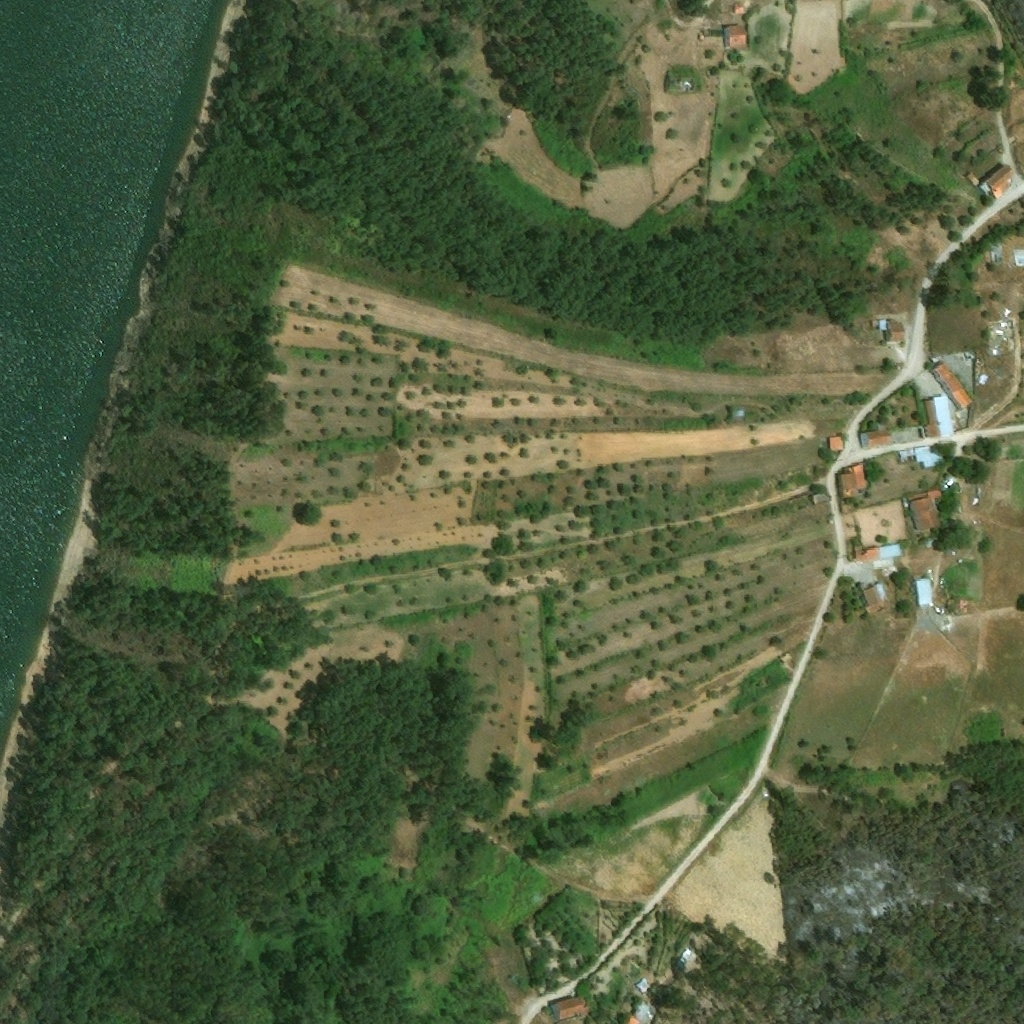0 no-damage: (933, 360, 975, 410), (908, 487, 945, 531), (833, 460, 869, 501), (922, 396, 954, 439), (857, 543, 904, 569), (982, 164, 1015, 201), (551, 997, 589, 1021), (861, 581, 890, 608), (627, 998, 657, 1023), (675, 945, 701, 972), (858, 429, 893, 449), (879, 318, 908, 342), (913, 446, 945, 467), (915, 578, 932, 608), (724, 25, 747, 47), (810, 490, 830, 506), (829, 436, 844, 450), (779, 652, 792, 664), (967, 173, 979, 185), (735, 3, 747, 14), (732, 409, 746, 418)
2 major-damage: (989, 245, 1003, 262)
3 destroyed: (992, 302, 1016, 330), (990, 344, 1001, 355), (965, 349, 976, 359)
4 un-classified: (991, 380, 1004, 390), (1016, 248, 1023, 266)
